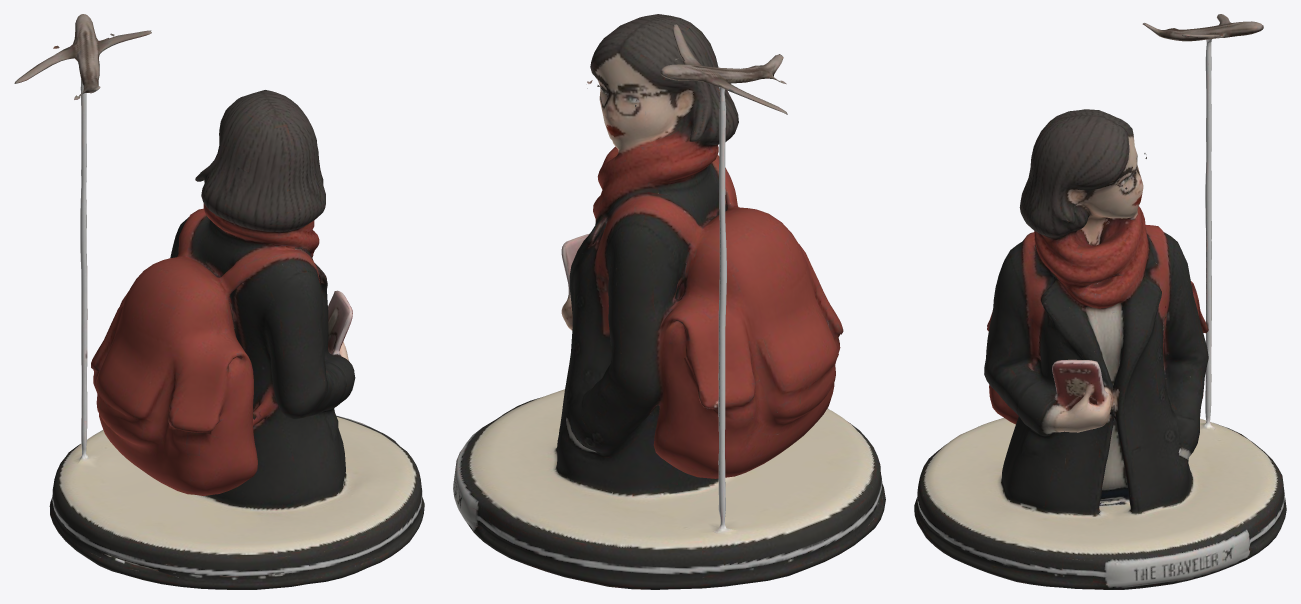
File: global.glb
3 renders of one model, left to right at view 1: azimuth 30°, elevation 25°; view 2: azimuth 150°, elevation 25°; view 3: azimuth 270°, elevation 25°, orthographic. The views are drawn at different scales.
Parts seen in each view (by area): view 1: tripo_node_c331d694-87a9-4e1d-90f6-86056e444c43; view 2: tripo_node_c331d694-87a9-4e1d-90f6-86056e444c43; view 3: tripo_node_c331d694-87a9-4e1d-90f6-86056e444c43.
Part boxes in pixels (box(x1,y1,x2,y2)): tripo_node_c331d694-87a9-4e1d-90f6-86056e444c43: box(14, 14, 424, 589); tripo_node_c331d694-87a9-4e1d-90f6-86056e444c43: box(453, 14, 885, 589); tripo_node_c331d694-87a9-4e1d-90f6-86056e444c43: box(914, 14, 1286, 589).
Size of the model in its own units: 0.7384 by 0.9921 by 0.7323.
1 material, 1 textured.
